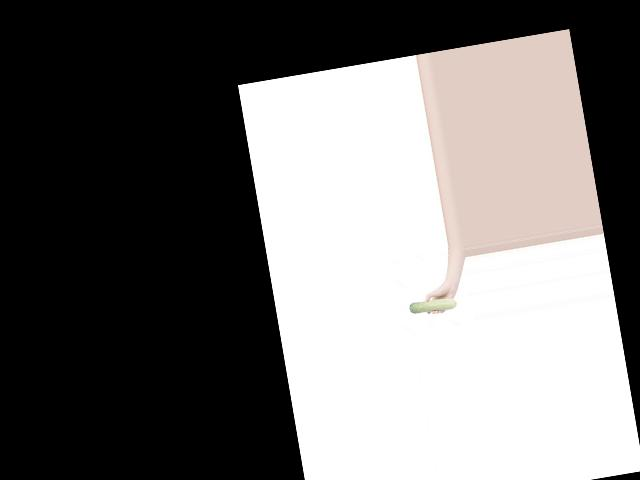cucumber: (408, 294, 457, 315)
